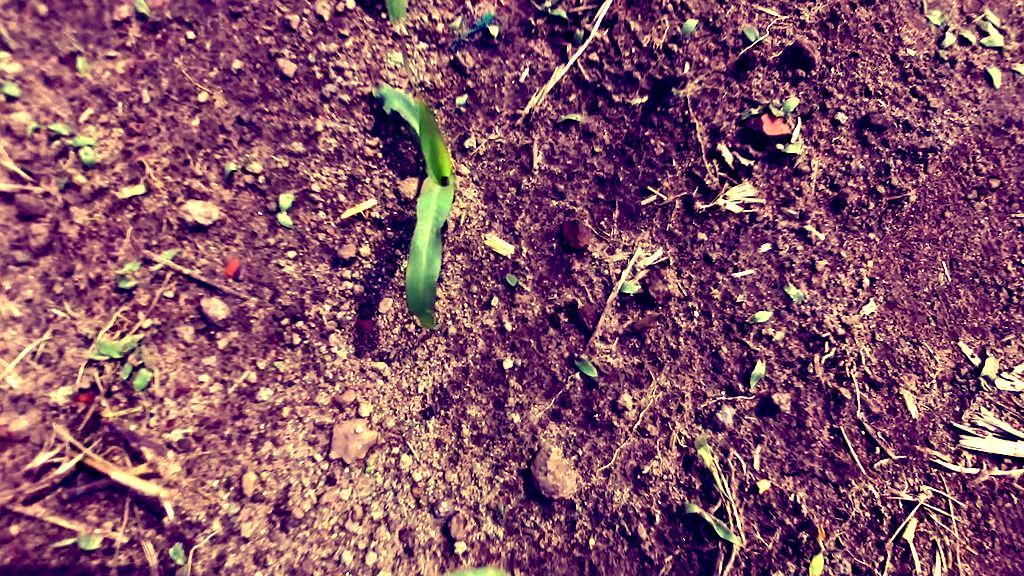BroWeed: (677, 497, 751, 553), (90, 333, 145, 361), (143, 239, 184, 275), (113, 344, 150, 383), (48, 530, 106, 553), (690, 427, 719, 473), (114, 174, 155, 206), (980, 26, 1018, 60), (214, 151, 249, 185), (974, 352, 1003, 393), (738, 19, 772, 53), (567, 351, 602, 382), (48, 131, 97, 153), (553, 101, 590, 128), (779, 277, 810, 309), (747, 353, 772, 392), (768, 95, 802, 122), (128, 364, 156, 396), (27, 119, 74, 138), (956, 22, 985, 51), (275, 186, 307, 212), (111, 256, 145, 280), (163, 539, 190, 569), (736, 100, 770, 123), (936, 23, 962, 53), (76, 142, 101, 170), (973, 16, 1003, 39), (72, 41, 91, 76), (65, 163, 90, 189), (677, 15, 700, 43), (273, 207, 296, 235), (808, 541, 826, 576), (0, 77, 26, 100), (619, 279, 646, 299), (116, 273, 144, 292), (983, 64, 1003, 90), (901, 515, 920, 542), (504, 268, 526, 291), (445, 13, 463, 41), (242, 158, 267, 177), (755, 475, 775, 496), (745, 310, 775, 324), (776, 142, 802, 156), (304, 47, 322, 66), (54, 172, 71, 192), (364, 451, 378, 474), (571, 26, 585, 49), (814, 523, 828, 544), (933, 47, 952, 62), (1010, 62, 1024, 82), (486, 23, 500, 42), (454, 92, 470, 108), (386, 51, 402, 64), (428, 10, 442, 23), (0, 50, 10, 62), (0, 94, 7, 103), (550, 0, 560, 6)
Maize: (365, 27, 472, 333), (385, 0, 409, 26)
